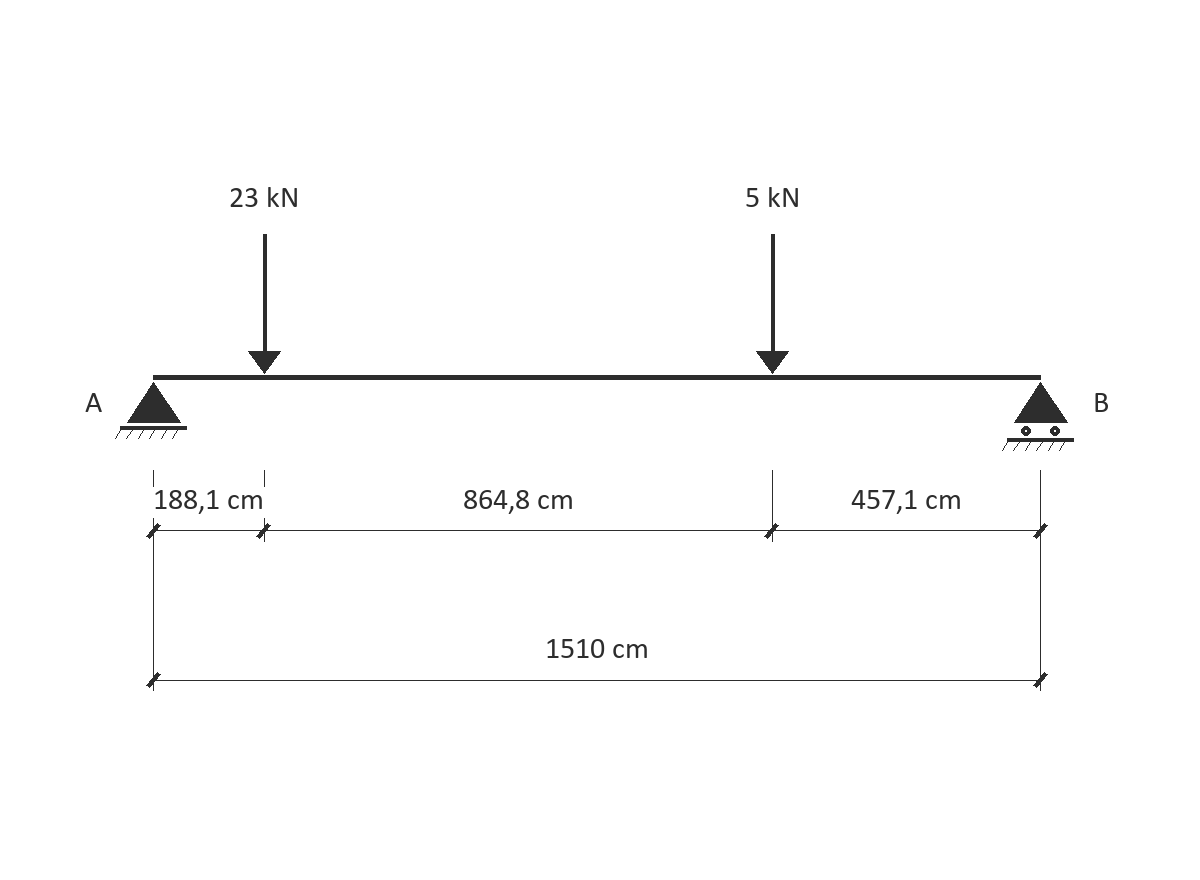pin_support: (115, 382, 187, 439)
point_load: (248, 234, 281, 374), (756, 234, 789, 374)
roller_support: (1002, 382, 1074, 451)
